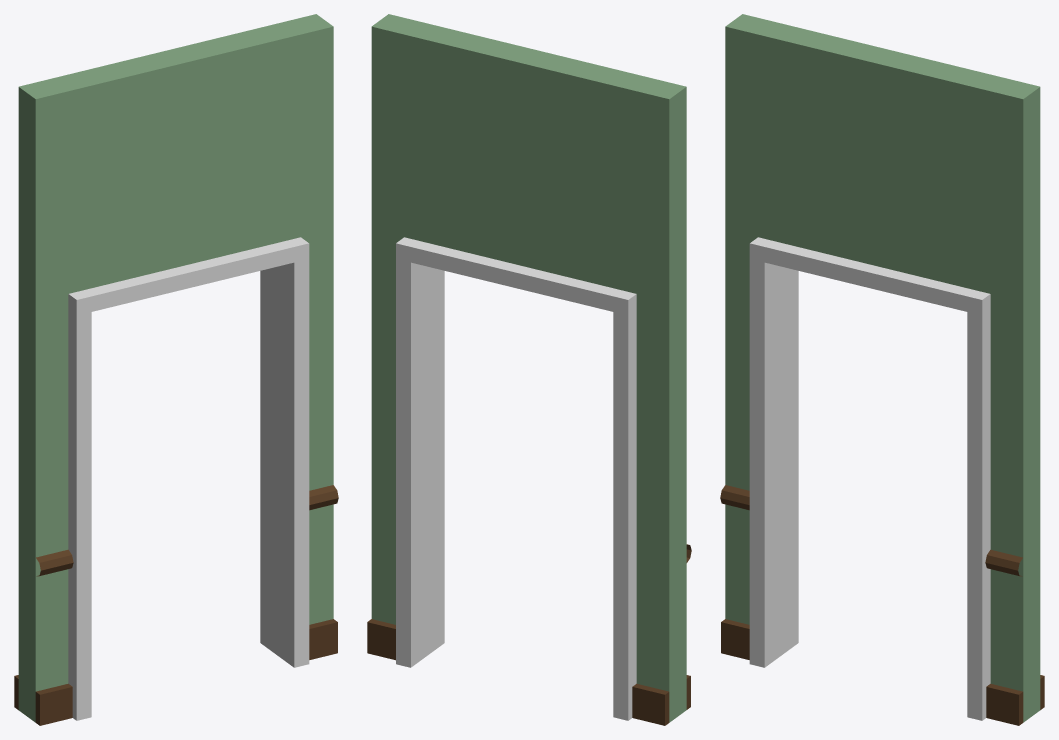
File: h_wall_3_doorFrame_4.fbx
3 views of the same model, side by side, from view 1: azimuth 30°, elevation 25°; view 2: azimuth 150°, elevation 25°; view 3: azimuth 330°, elevation 25° (orthographic).
Parts seen in each view (by area): view 1: Cube, DoorFrame; view 2: Cube, DoorFrame; view 3: Cube, DoorFrame.
Boxes of the visible parts, x1,y1,x2,y2 form: Cube: [14, 14, 338, 725]; DoorFrame: [68, 237, 309, 720]; Cube: [367, 14, 691, 725]; DoorFrame: [396, 237, 636, 720]; Cube: [720, 14, 1044, 725]; DoorFrame: [749, 237, 990, 720].
Size of the model in its own units: 200 by 400 by 39.37.
